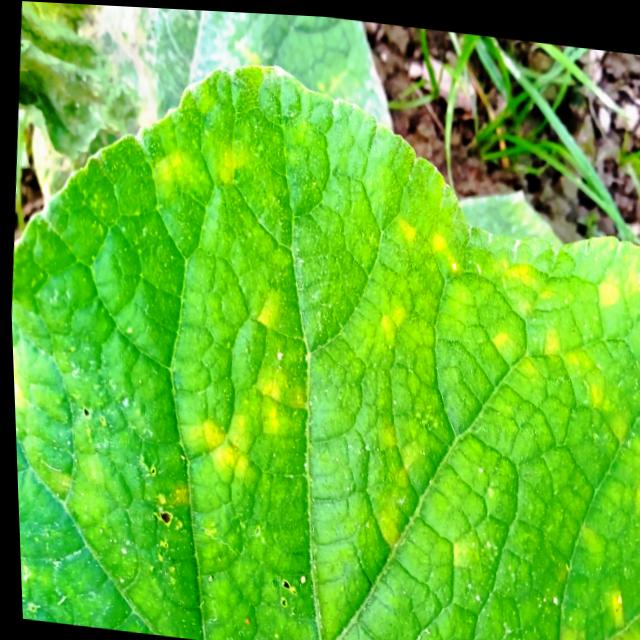Downy-Mildew: (9, 63, 640, 640)
